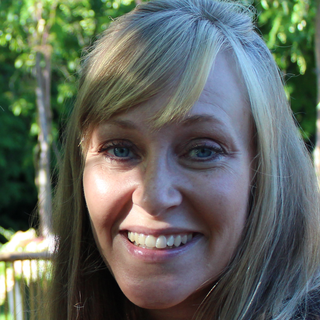eye: (174, 134, 228, 166), (92, 136, 146, 167)
